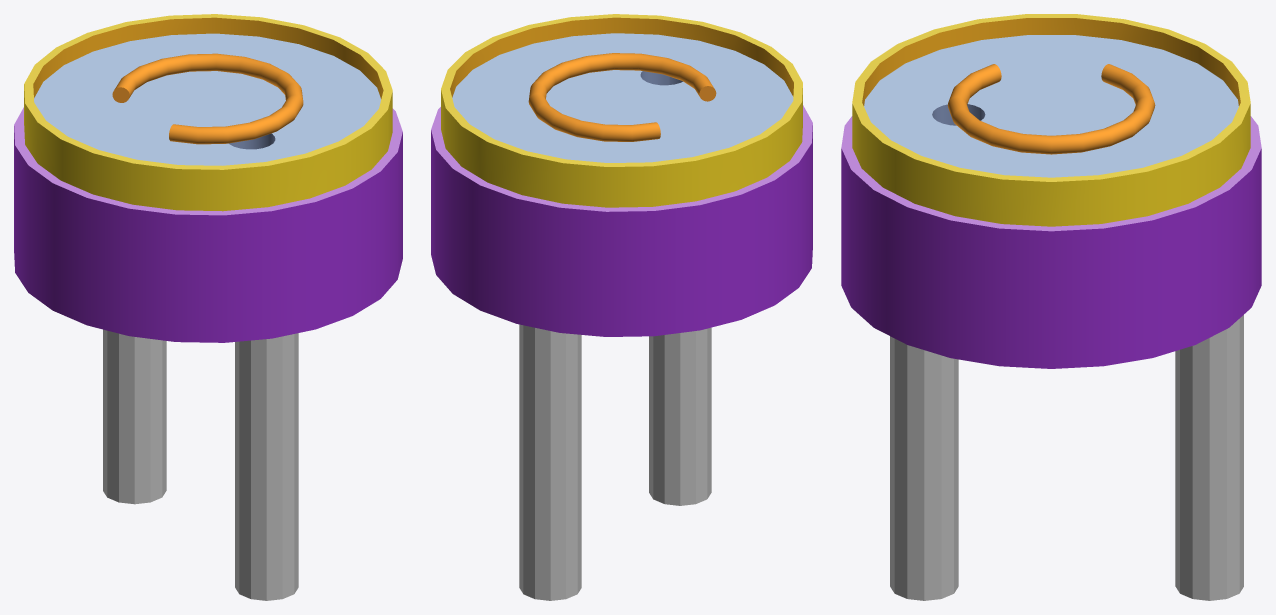
Rendered from map4.fbx.
3 renders of one model, left to right at view 1: azimuth 30°, elevation 25°; view 2: azimuth 150°, elevation 25°; view 3: azimuth 270°, elevation 25°, orthographic. The views are drawn at different scales.
Parts seen in each view (by area): view 1: polySurface2, polySurface1; view 2: polySurface2, polySurface1; view 3: polySurface2, polySurface1.
Part boxes in pixels (box(x1,y1,x2,y2)): polySurface2: box(14, 14, 402, 600); polySurface1: box(112, 53, 303, 144); polySurface2: box(431, 14, 812, 600); polySurface1: box(528, 53, 716, 141); polySurface2: box(841, 14, 1261, 600); polySurface1: box(947, 64, 1155, 154).
Size of the model in its own units: 38.77 by 49.94 by 38.85.
